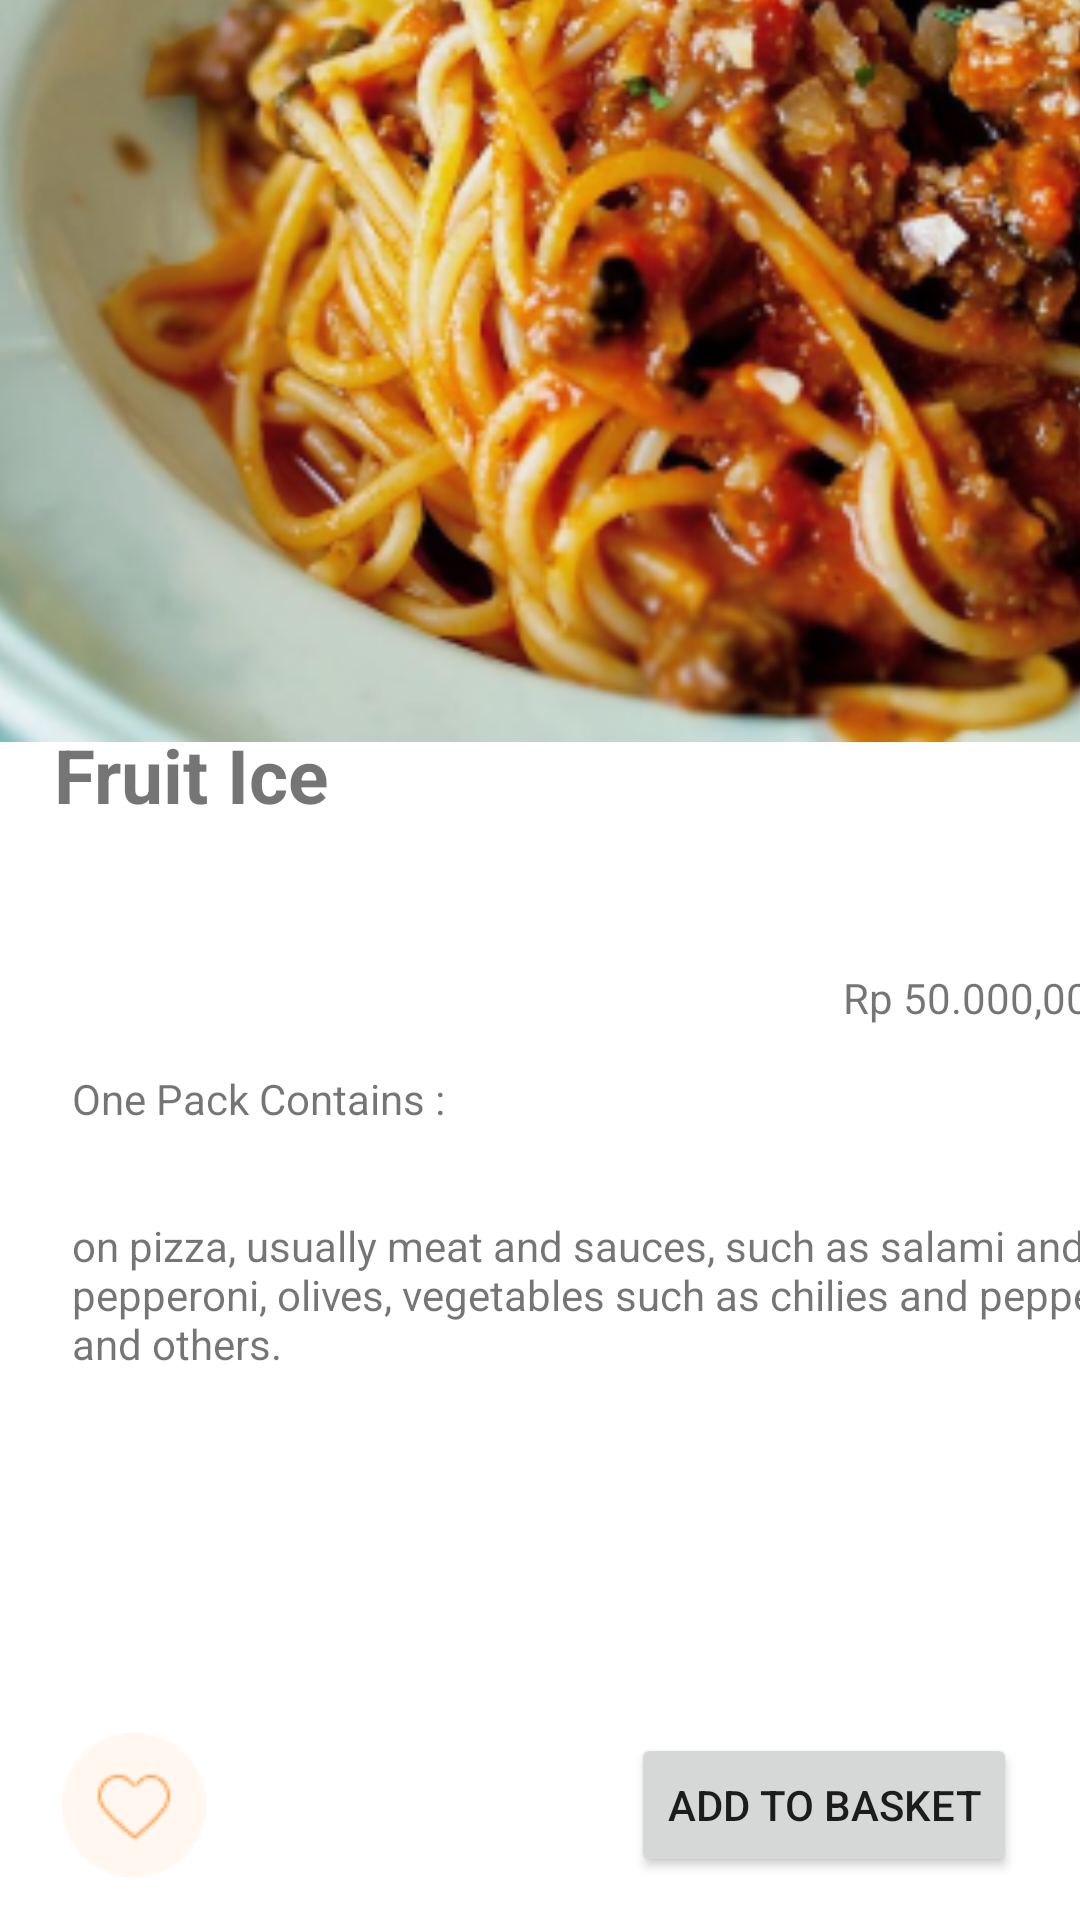

Named icons in this screenshot (1080*1920) and their centers, point (x, y):
love: point (134, 1805)
